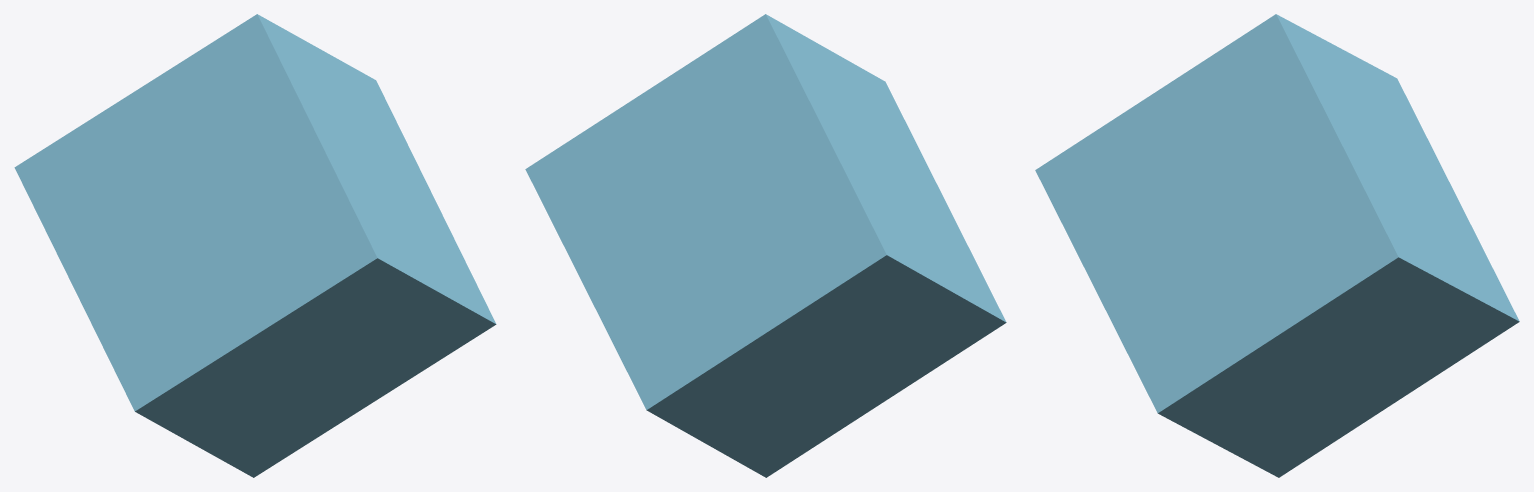
Rendered from GPS.fbx.
The picture shows the model from 3 angles, left to right: view 1: azimuth 30°, elevation 25°; view 2: azimuth 150°, elevation 25°; view 3: azimuth 270°, elevation 25°; orthographic projection.
Parts seen in each view (by area): view 1: pCube1; view 2: pCube1; view 3: pCube1.
Part boxes in pixels (box(x1,y1,x2,y2)): pCube1: box(14, 14, 496, 477); pCube1: box(525, 14, 1006, 477); pCube1: box(1035, 14, 1519, 477).
Size of the model in its own units: 2.42 by 2.96 by 2.8.
